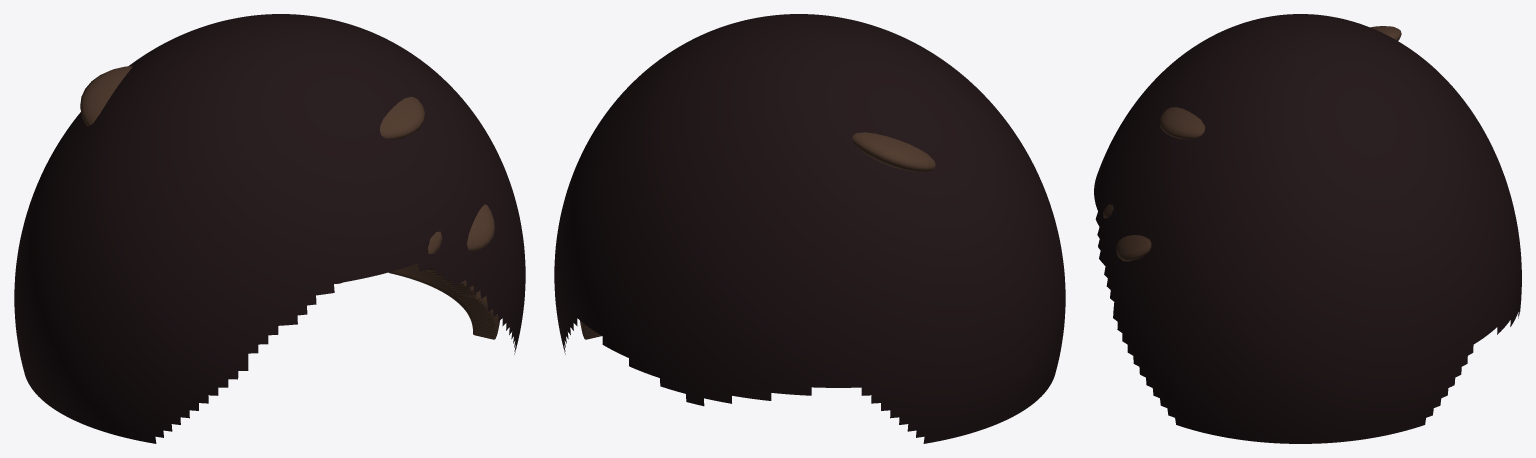
File: hair-tuft.glb
3 renders of one model, left to right at view 1: azimuth 30°, elevation 25°; view 2: azimuth 150°, elevation 25°; view 3: azimuth 270°, elevation 25°, orthographic. The views are drawn at different scales.
Parts seen in each view (by area): view 1: Hair ink, Hair crown, Hair top clump 0, Hair top clump 4, Hair front clump 3; view 2: Hair ink, Hair top clump 0; view 3: Hair ink, Hair top clump 4, Hair front clump 3.
Boxes of the visible parts, x1=… form: Hair ink: x1=14, y1=14, x2=525, y2=443; Hair crown: x1=389, y1=263, x2=499, y2=339; Hair top clump 0: x1=80, y1=66, x2=132, y2=126; Hair top clump 4: x1=380, y1=96, x2=424, y2=139; Hair front clump 3: x1=467, y1=204, x2=494, y2=251; Hair ink: x1=554, y1=14, x2=1065, y2=443; Hair top clump 0: x1=852, y1=132, x2=935, y2=172; Hair ink: x1=1094, y1=14, x2=1521, y2=443; Hair top clump 4: x1=1160, y1=107, x2=1205, y2=139; Hair front clump 3: x1=1116, y1=235, x2=1151, y2=261.
Bounding box in the file's own units: 0.5305 × 0.3549 × 0.451.
